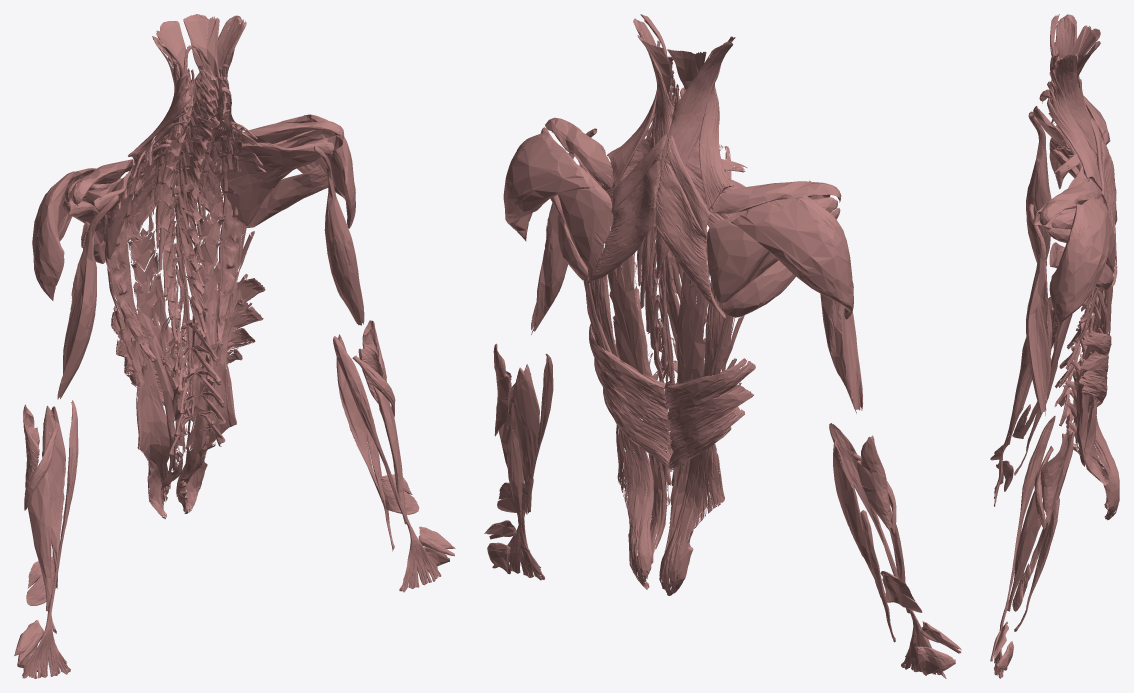
The model's file is muscular-03.glb.
3 renders of one model, left to right at view 1: azimuth 30°, elevation 25°; view 2: azimuth 150°, elevation 25°; view 3: azimuth 270°, elevation 25°, orthographic. The views are drawn at different scales.
Parts seen in each view (by area): view 1: FJ1535, FJ1535M, FJ1527, FJ1504M, FJ1512, FJ1513, FJ1527M, FJ1512M, FJ1502M, FJ1502, FJ1525M, FJ1528M (+30 smaller); view 2: FJ1513, FJ1541, FJ1541M, FJ1527, FJ1513M, FJ1535M, FJ1527M, FJ1536, FJ1535, FJ1500, FJ1536M, FJ1500M (+30 smaller); view 3: FJ1513M, FJ1512M, FJ1535M, FJ1512, FJ1532M, FJ1527M, FJ1541M, FJ1545M, FJ1502M, FJ1499M, FJ1506M, FJ1505M (+31 smaller).
Boxes of the visible parts, x1=… form: FJ1535: x1=127, y1=132, x2=187, y2=497; FJ1535M: x1=179, y1=119, x2=235, y2=485; FJ1527: x1=104, y1=246, x2=170, y2=518; FJ1504M: x1=226, y1=142, x2=334, y2=225; FJ1512: x1=57, y1=194, x2=118, y2=399; FJ1513: x1=32, y1=168, x2=96, y2=300; FJ1527M: x1=176, y1=222, x2=254, y2=513; FJ1512M: x1=314, y1=146, x2=364, y2=325; FJ1502M: x1=333, y1=336, x2=441, y2=592; FJ1502: x1=22, y1=400, x2=78, y2=678; FJ1525M: x1=180, y1=115, x2=212, y2=337; FJ1528M: x1=216, y1=126, x2=242, y2=345; FJ1513: x1=729, y1=195, x2=853, y2=319; FJ1541: x1=664, y1=358, x2=755, y2=469; FJ1541M: x1=589, y1=323, x2=671, y2=469; FJ1527: x1=659, y1=314, x2=744, y2=595; FJ1513M: x1=503, y1=132, x2=598, y2=241; FJ1535M: x1=607, y1=130, x2=671, y2=564; FJ1527M: x1=583, y1=277, x2=653, y2=589; FJ1536: x1=655, y1=163, x2=725, y2=317; FJ1535: x1=664, y1=144, x2=723, y2=552; FJ1500: x1=707, y1=197, x2=837, y2=303; FJ1536M: x1=586, y1=161, x2=660, y2=284; FJ1500M: x1=540, y1=127, x2=612, y2=271; FJ1513M: x1=1049, y1=199, x2=1110, y2=326; FJ1512M: x1=1026, y1=204, x2=1052, y2=415; FJ1535M: x1=1056, y1=139, x2=1106, y2=485; FJ1512: x1=1026, y1=111, x2=1051, y2=266; FJ1532M: x1=1047, y1=70, x2=1102, y2=190; FJ1527M: x1=1084, y1=286, x2=1119, y2=520; FJ1541M: x1=1079, y1=331, x2=1111, y2=413; FJ1545M: x1=1055, y1=54, x2=1102, y2=154; FJ1502M: x1=994, y1=416, x2=1055, y2=678; FJ1499M: x1=1007, y1=481, x2=1043, y2=611; FJ1506M: x1=1039, y1=181, x2=1102, y2=226; FJ1505M: x1=1040, y1=433, x2=1067, y2=526.
Bounding box in the file's own units: 0.6117 × 0.7669 × 0.1634.
